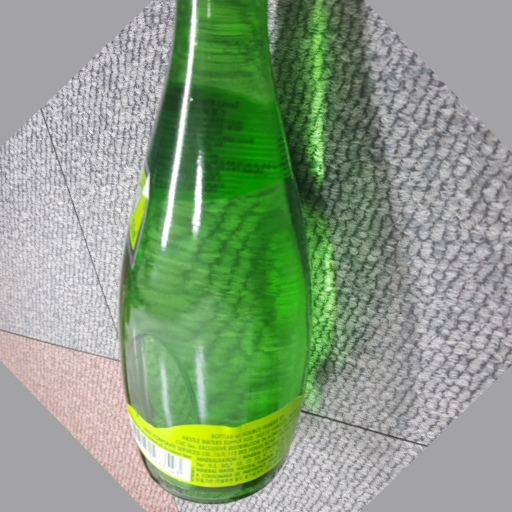Glass_4: (113, 3, 317, 508)
